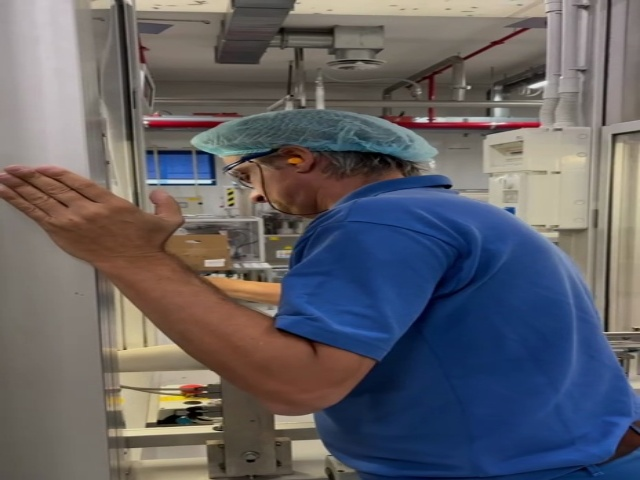Earplug: (275, 147, 316, 173)
Hairnet: (201, 108, 439, 163)
No_Helmet: (197, 111, 438, 161)
No_Vest: (283, 202, 636, 475)
Person: (1, 111, 640, 480)
Safety_Goggles: (221, 145, 279, 187)
